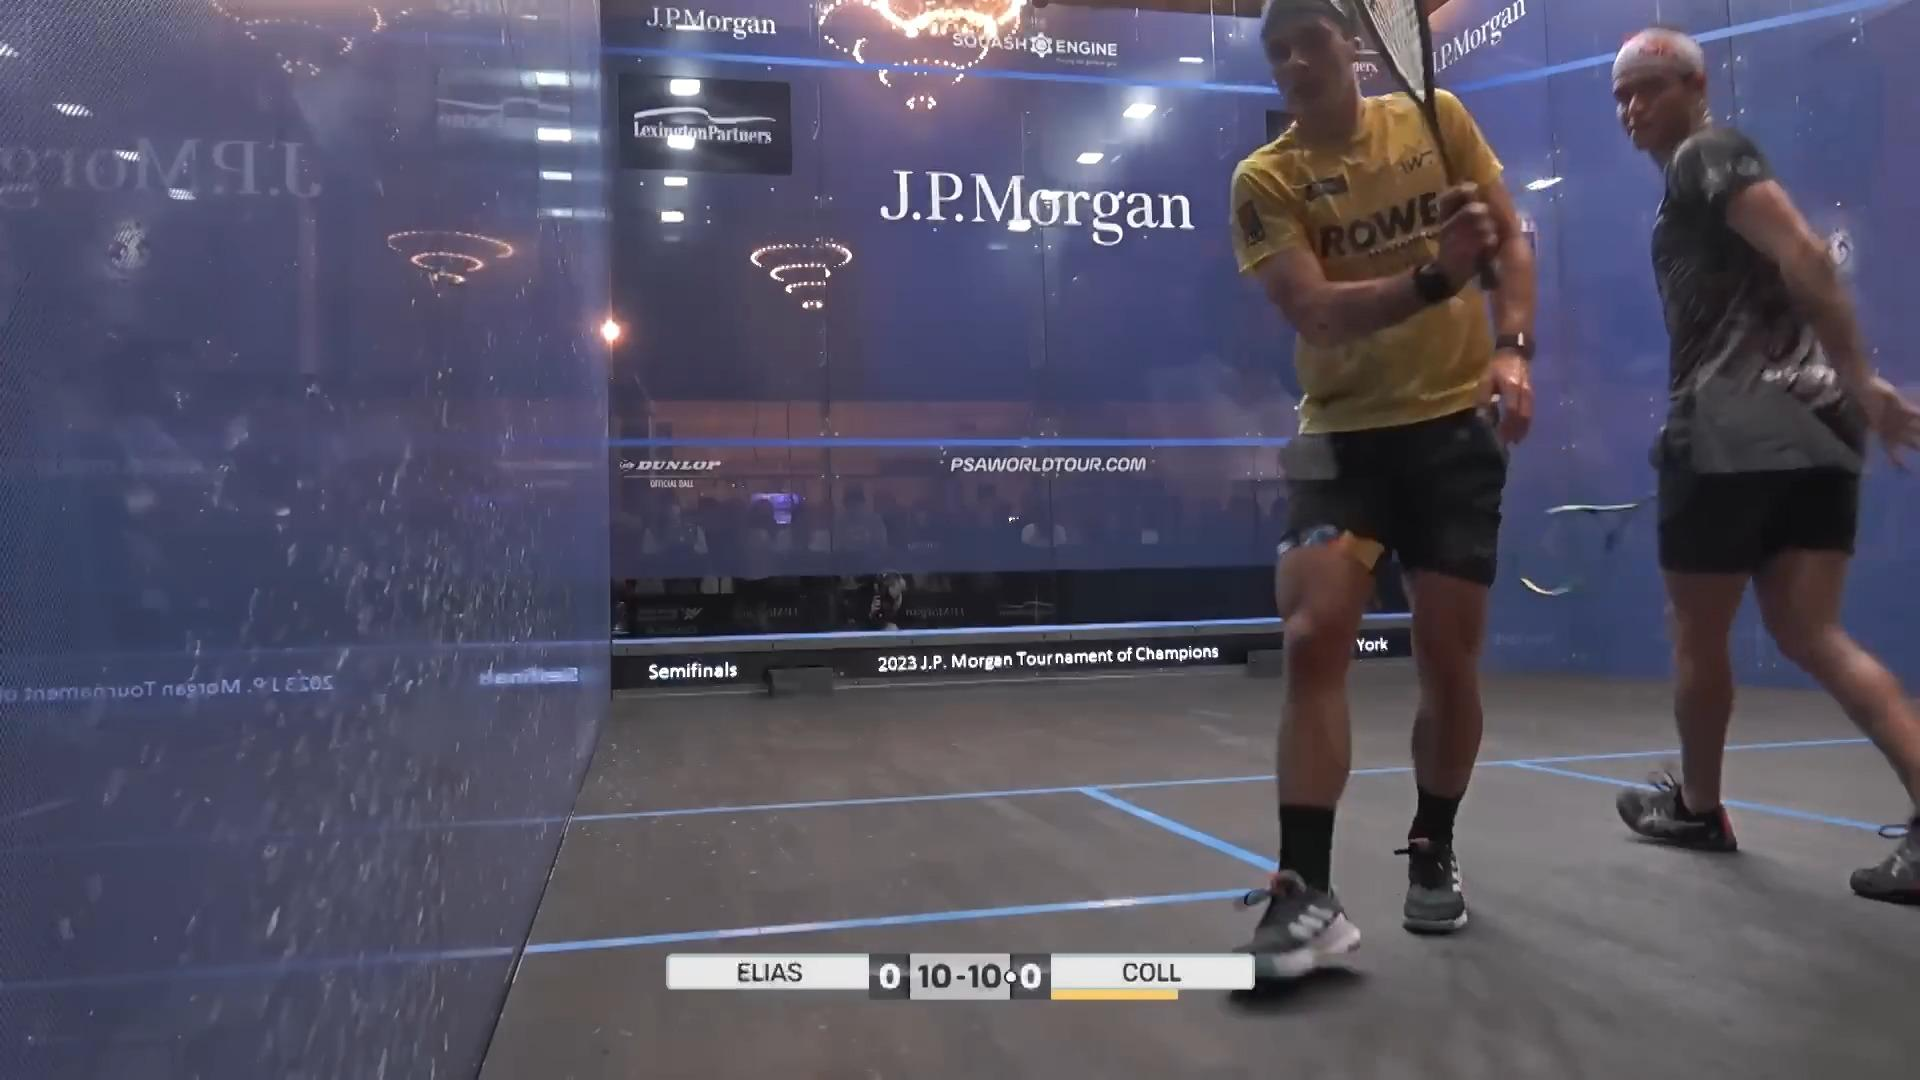Racket: (1353, 0, 1511, 295), (1507, 492, 1659, 607)
